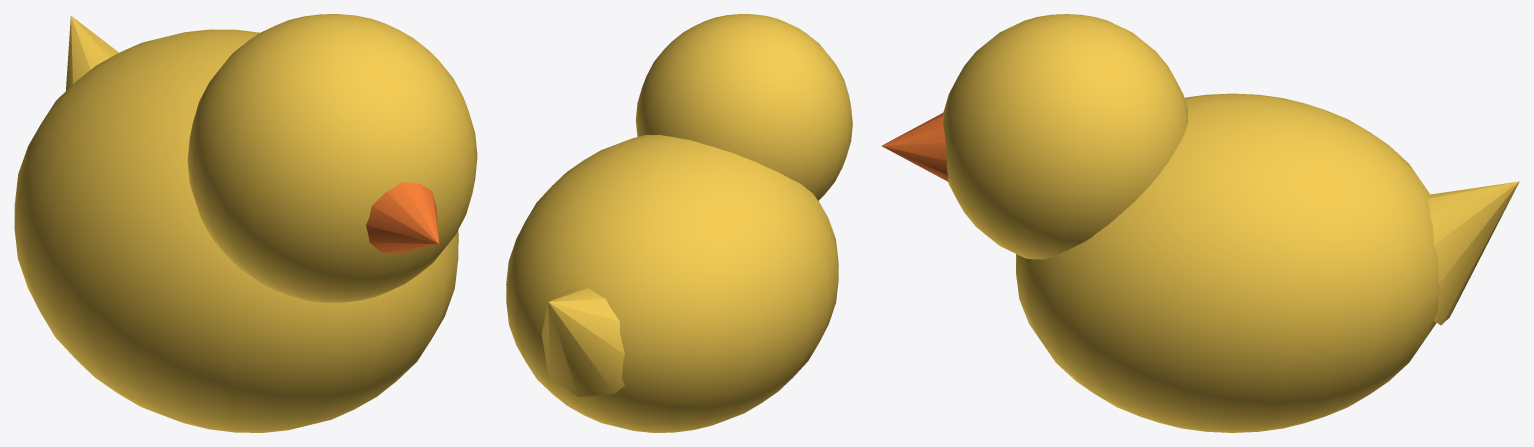
Rendered from home_prop_duck.glb.
The picture shows the model from 3 angles, left to right: view 1: azimuth 30°, elevation 25°; view 2: azimuth 150°, elevation 25°; view 3: azimuth 270°, elevation 25°; orthographic projection. The views are drawn at different scales.
Bounding box in the file's own units: 0.1 × 0.116 × 0.1727.
